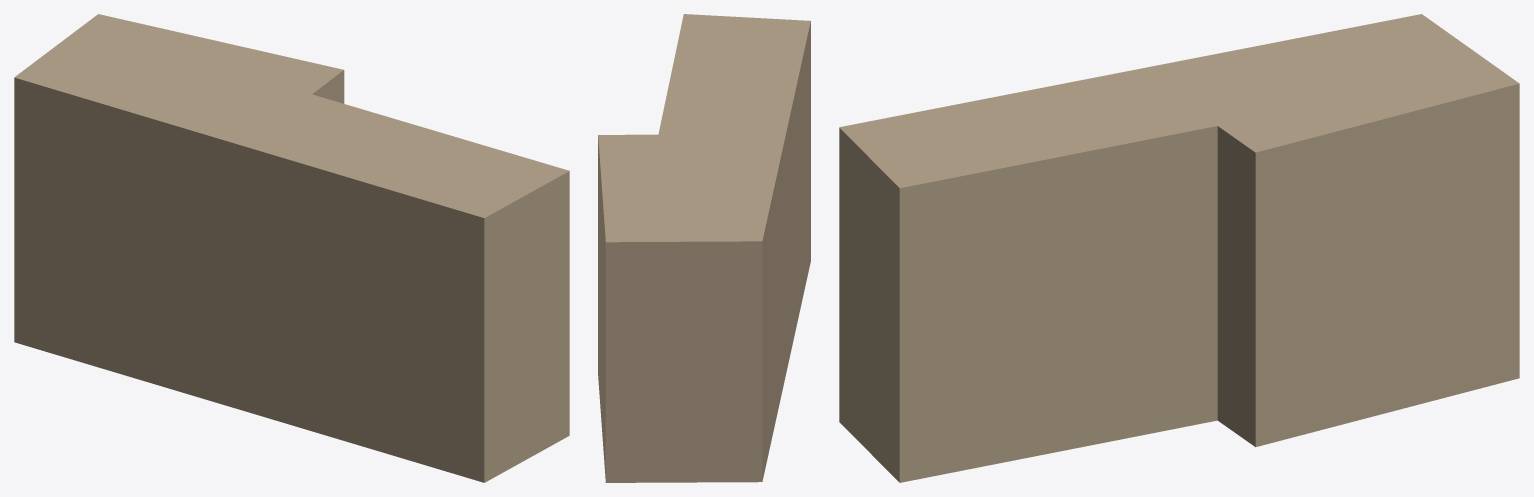
Rendered from bld_99003264.dae.
3 views of the same model, side by side, from view 1: azimuth 30°, elevation 25°; view 2: azimuth 150°, elevation 25°; view 3: azimuth 270°, elevation 25° (orthographic). The views are drawn at different scales.
Parts seen in each view (by area): view 1: Mighty Oak Tap Room; view 2: Mighty Oak Tap Room; view 3: Mighty Oak Tap Room.
Part boxes in pixels (box(x1,y1,x2,y2)): Mighty Oak Tap Room: box(14, 14, 569, 482); Mighty Oak Tap Room: box(598, 14, 810, 482); Mighty Oak Tap Room: box(839, 14, 1519, 482).
Size of the model in its own units: 10.15 by 16.75 by 8.
